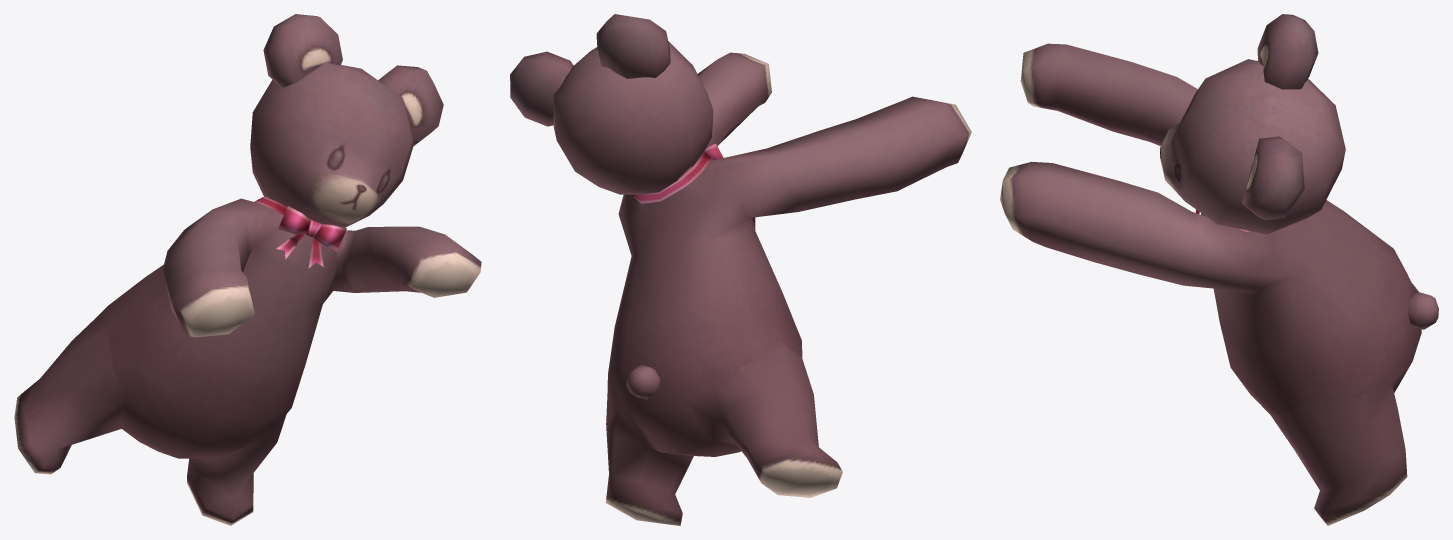
Rendered from acc_back0083.fbx.
3 views of the same model, side by side, from view 1: azimuth 30°, elevation 25°; view 2: azimuth 150°, elevation 25°; view 3: azimuth 270°, elevation 25° (orthographic). The views are drawn at different scales.
Parts seen in each view (by area): view 1: acc_back0083_m; view 2: acc_back0083_m; view 3: acc_back0083_m.
Part boxes in pixels (x1,y1,x2,y2): acc_back0083_m: (14,14,481,525); acc_back0083_m: (510,14,971,525); acc_back0083_m: (1000,14,1438,525).
Size of the model in its own units: 0.3593 by 0.4548 by 0.3435.
